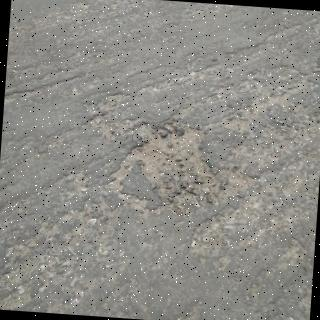pothole: (109, 124, 220, 211)
